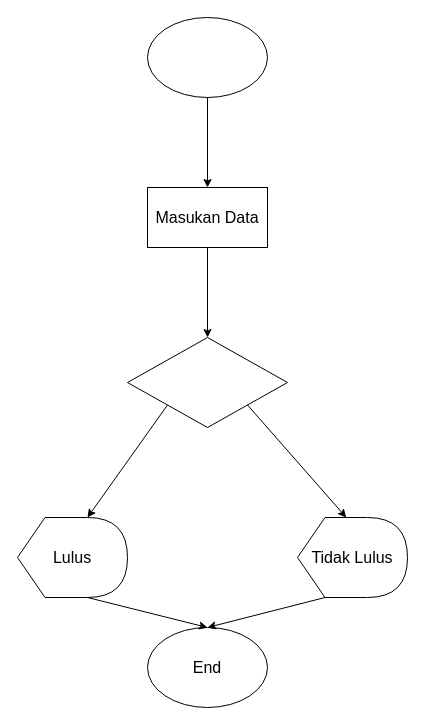
This 425x725 diagram has some shape labels left out. Each missing label, with the box of its shape:
C ek Persyaratan: (126, 336, 288, 428)
Start: (146, 16, 268, 98)
